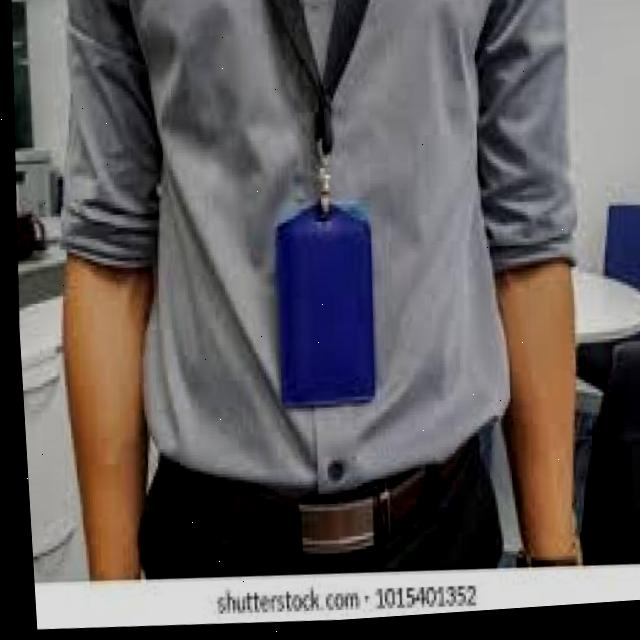id_card: (231, 0, 410, 425)
